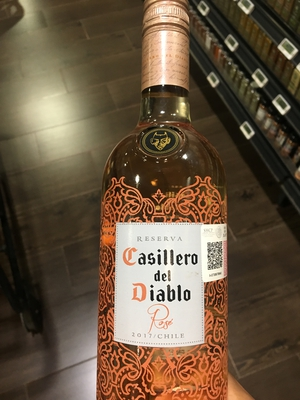casillero del diablo rose: (92, 10, 246, 400)
